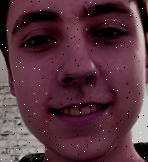without_mask: (2, 1, 148, 162)
